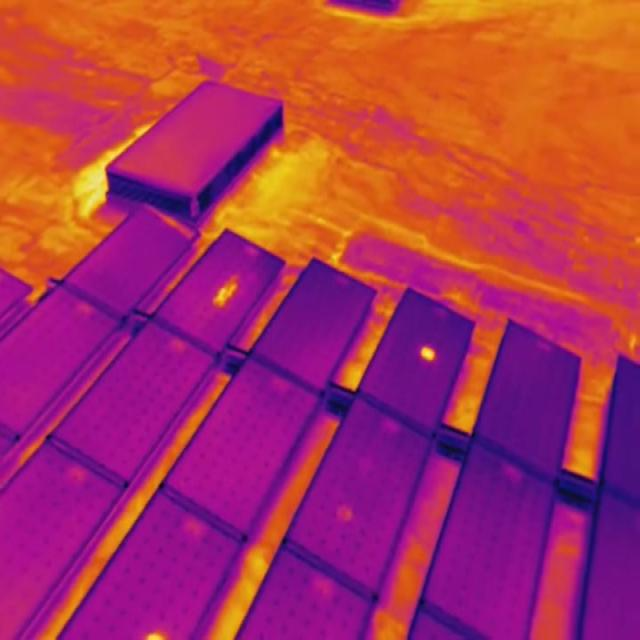Orange-Spots: (214, 274, 238, 308), (146, 628, 169, 640), (338, 504, 354, 520), (422, 344, 435, 362)
